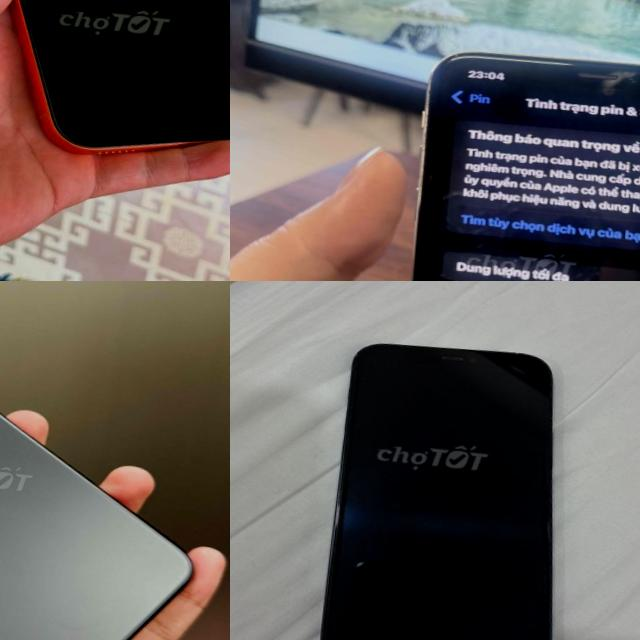gen_11: (0, 281, 224, 640)
gen_12_13: (309, 332, 590, 640)
gen_17: (0, 0, 230, 175)
gen_x_xs: (370, 34, 640, 281)
